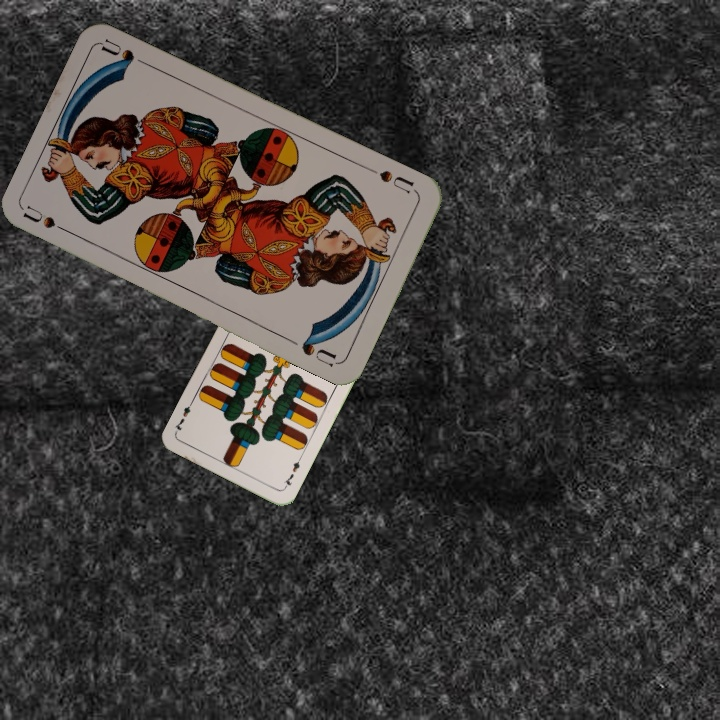E7: (280, 454, 304, 492)
SU: (21, 202, 78, 239), (364, 164, 419, 196)
